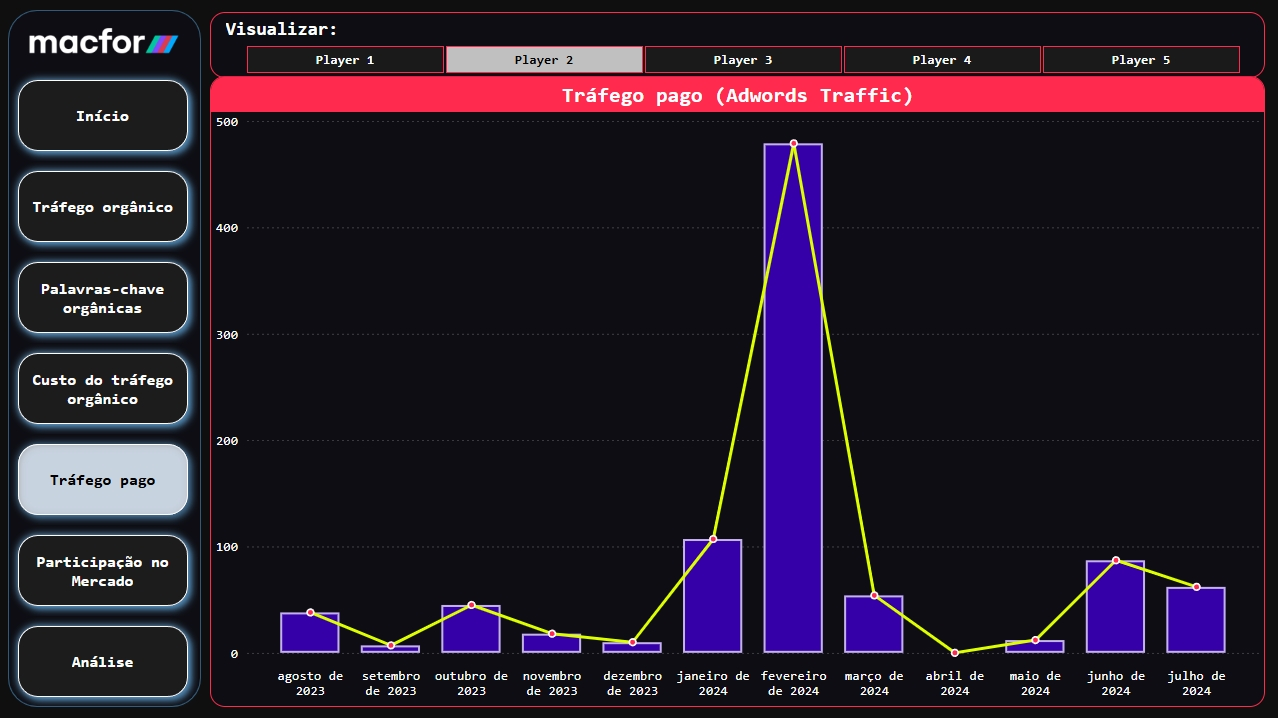

The dashboard page shown, as its layout file describes it:
{"tool":"powerbi","page":{"name":"Tráfego pago","canvas":[1280,720],"ordinal":4},"visuals":[{"type":"shape","box":[9,11,193,697],"z":0},{"type":"pageNavigator","box":[9,71,190,637],"z":1000},{"type":"image","box":[12,19,187,53],"z":2000},{"type":"lineClusteredColumnComboChart","title":"Tráfego pago (Adwords Traffic)","fields":{"Category":["Adwords traffic (Adwords traffic).Data"],"Series":["Adwords traffic (Adwords traffic).Player"],"Y":["Sum(Adwords traffic (Adwords traffic).Valor)"],"Y2":["Sum(Adwords traffic (Adwords traffic).Valor)"]},"box":[211,77,1055,631],"z":3000},{"type":"slicer","title":"Visualizar:","fields":{"Values":["Adwords traffic (Adwords traffic).Player"]},"box":[211,13,1055,66],"z":5500}]}

Visuals, with their boxes in screenshot pixels (x1, y1, x2, y2), scaled from the page's 1280x720 canvas onto the 1278x718 screenshot:
shape: bbox=[9, 11, 202, 706]
pageNavigator: bbox=[9, 71, 199, 706]
image: bbox=[12, 19, 199, 72]
"Tráfego pago (Adwords Traffic)" lineClusteredColumnComboChart: bbox=[211, 77, 1264, 706]
"Visualizar:" slicer: bbox=[211, 13, 1264, 79]
